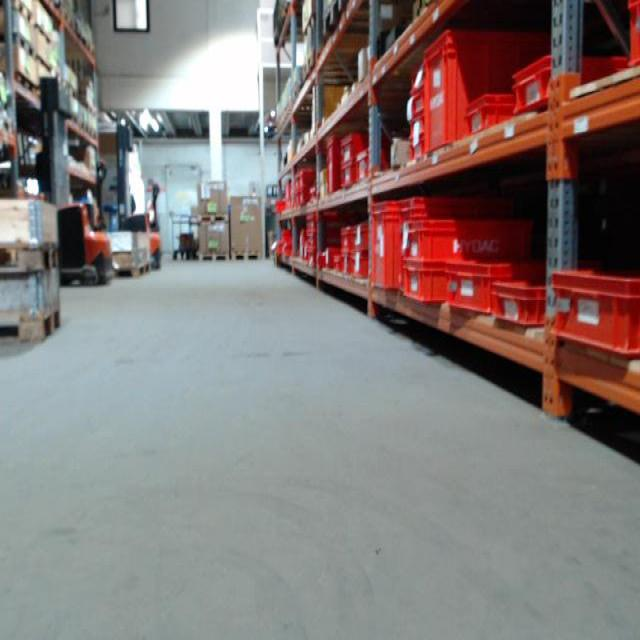pallet: (0, 303, 62, 349), (0, 239, 60, 276), (322, 0, 350, 38), (13, 33, 35, 58), (14, 72, 36, 93), (13, 1, 33, 24), (230, 249, 264, 262), (302, 49, 315, 81), (35, 25, 53, 47), (198, 213, 229, 225), (197, 252, 230, 263), (36, 56, 53, 77), (304, 13, 317, 39)
pallet_truck: (22, 66, 115, 293), (108, 115, 162, 268)
small_load_carrier: (423, 20, 536, 157), (393, 191, 502, 296), (550, 259, 638, 359), (510, 47, 631, 112), (402, 218, 532, 259), (446, 259, 535, 317), (492, 281, 555, 330), (456, 86, 513, 138), (369, 200, 396, 288), (400, 268, 450, 305), (353, 145, 389, 185), (321, 135, 342, 193), (625, 3, 637, 76), (335, 158, 361, 189), (406, 60, 429, 93), (338, 132, 357, 166), (350, 223, 374, 249), (349, 251, 372, 278), (404, 113, 427, 138), (336, 229, 357, 255), (408, 89, 426, 113), (404, 138, 426, 156), (337, 253, 354, 275), (324, 246, 335, 269)
